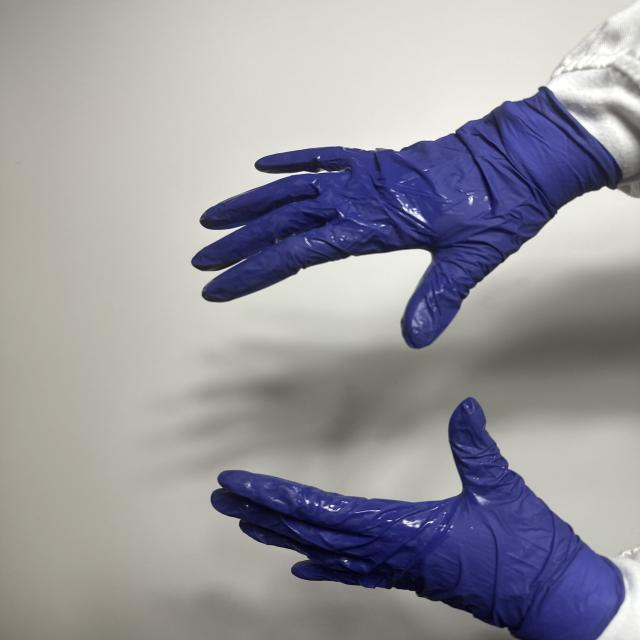gloves_contaminated: (192, 88, 620, 348), (212, 398, 636, 640)
